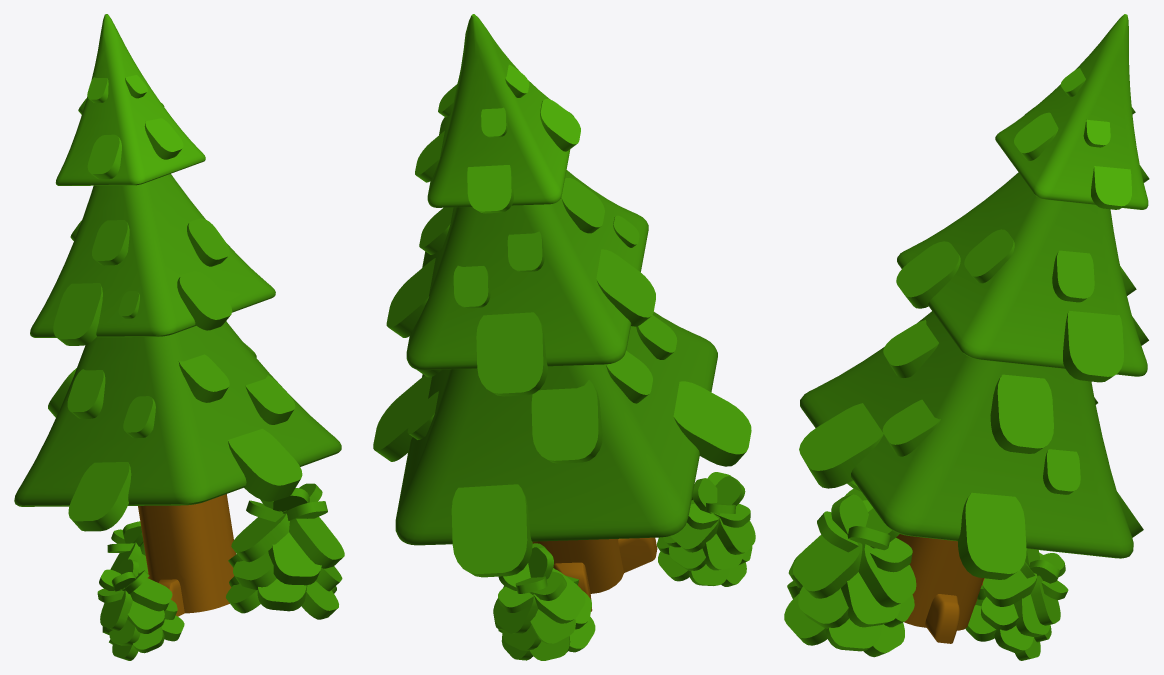
File: forest1.fbx
The picture shows the model from 3 angles, left to right: view 1: azimuth 30°, elevation 25°; view 2: azimuth 150°, elevation 25°; view 3: azimuth 270°, elevation 25°; orthographic projection. The views are drawn at different scales.
Parts seen in each view (by area): view 1: Tree3; view 2: Tree3; view 3: Tree3.
Part boxes in pixels (x1=…): Tree3: x1=14, y1=14, x2=344, y2=660; Tree3: x1=373, y1=14, x2=755, y2=660; Tree3: x1=784, y1=14, x2=1149, y2=660.
Bounding box in the file's own units: 837 × 1652 × 851.
